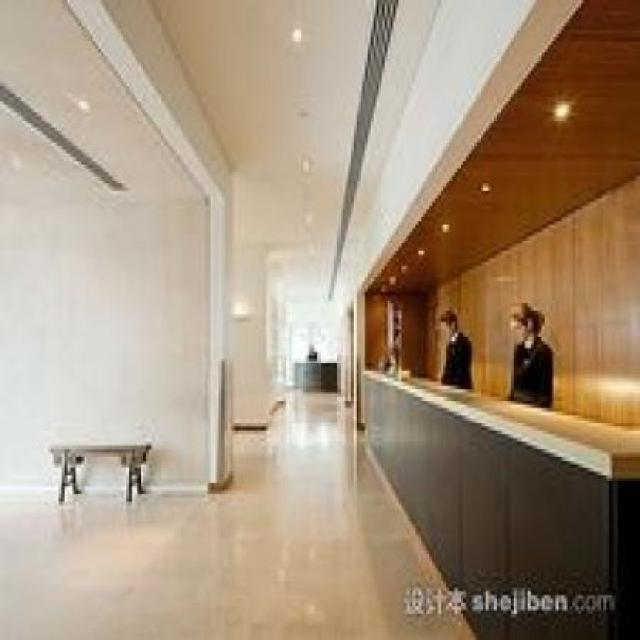frontdesk: (344, 352, 640, 639)
